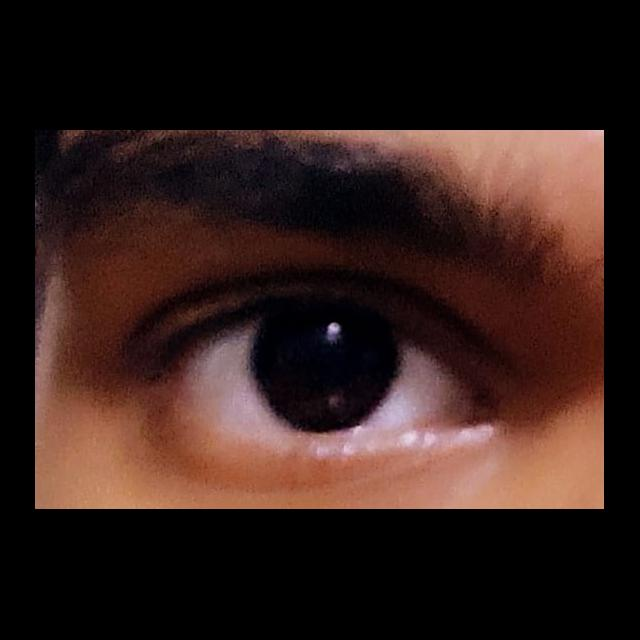eye: (180, 302, 473, 442)
iris: (250, 308, 403, 437)
